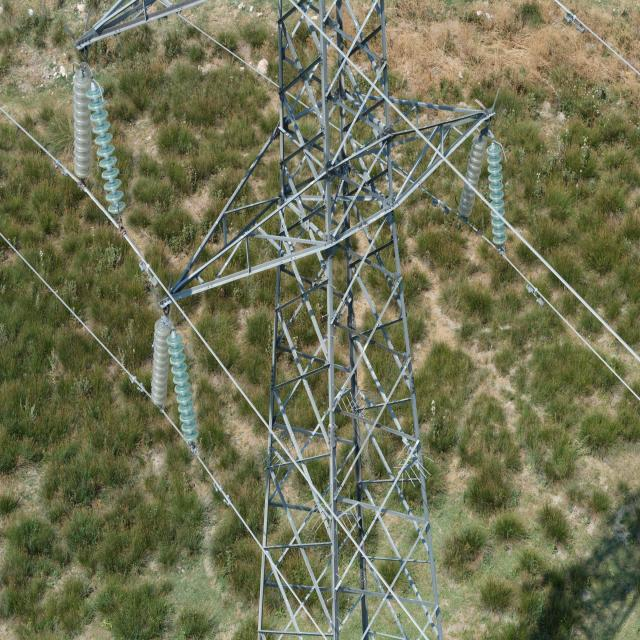direk: (202, 3, 475, 640)
